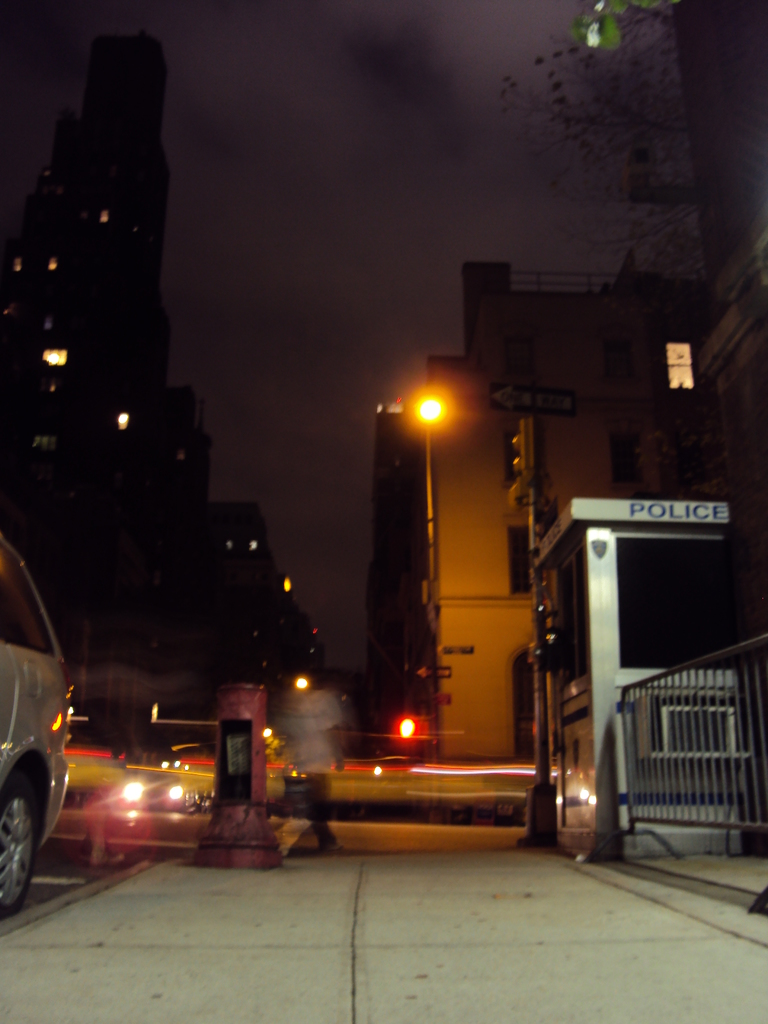red_light: (394, 715, 417, 743)
yellow_light: (413, 393, 447, 422), (290, 675, 313, 693)
